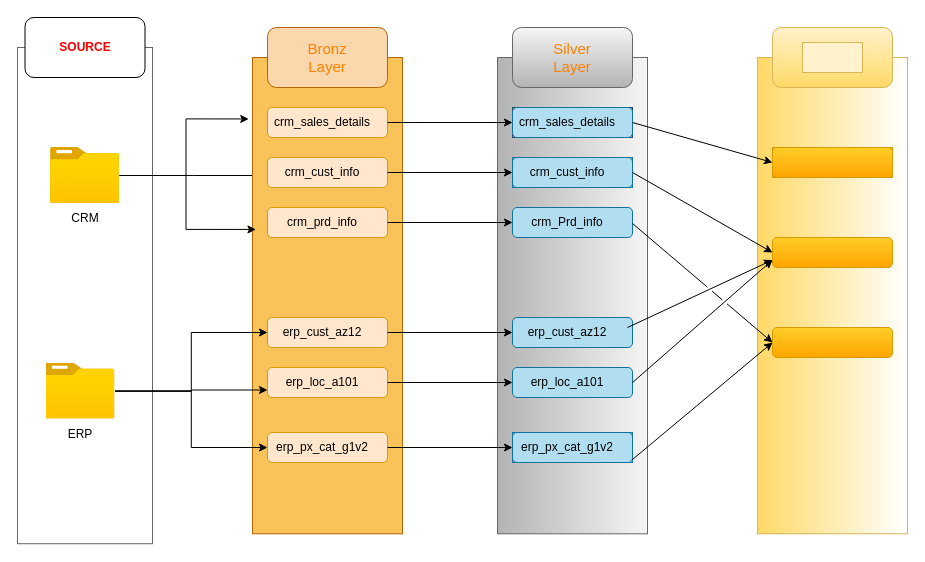
Image size: 925x562. Some labels were removed from this diagram. Here are the shapes that lost their labels. From the top down, the centre of each, then its label:
At point (832, 57): "Gold Layer".
At point (832, 162): "fact_sales".
At point (832, 252): "dim_customers".
At point (832, 342): "dim_products".
